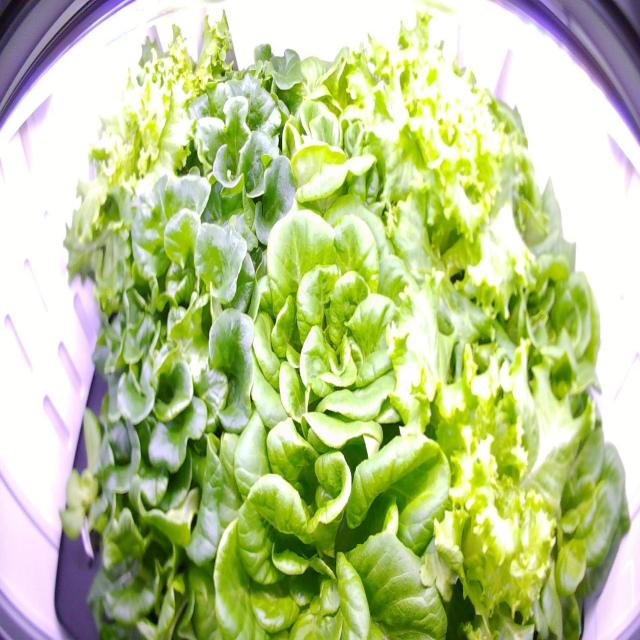Ready: (173, 357, 479, 639), (197, 196, 474, 469), (463, 380, 632, 640), (222, 92, 434, 269), (468, 249, 614, 423), (252, 34, 398, 156), (457, 160, 579, 302), (453, 77, 533, 163)
young: (43, 402, 133, 555)
